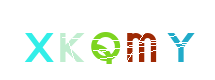K: (55, 0, 135, 80)
M: (67, 0, 147, 80)
Q: (65, 0, 145, 80)
X: (40, 0, 120, 80)
Y: (101, 0, 181, 80)
